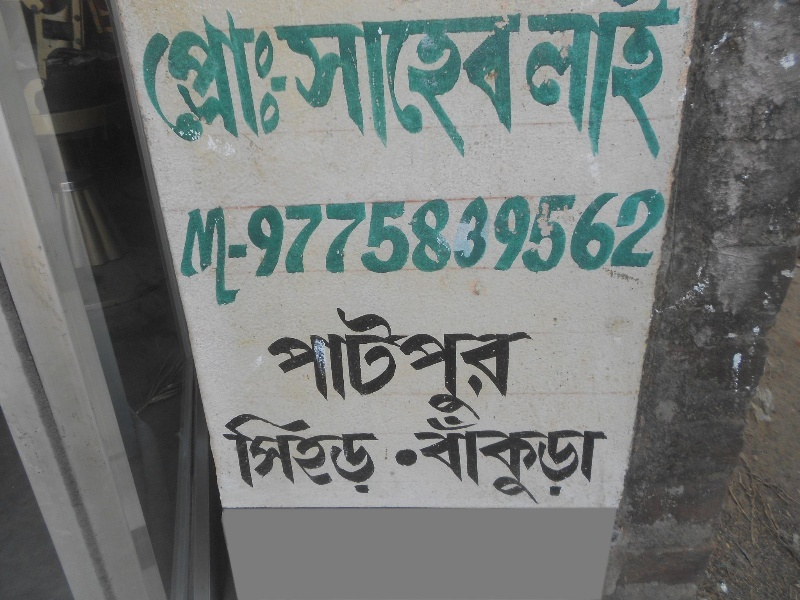text: (145, 1, 160, 161), (161, 1, 176, 161), (177, 1, 192, 161), (193, 1, 208, 161), (209, 1, 224, 161), (225, 1, 240, 161), (241, 1, 256, 161), (257, 1, 272, 161), (273, 1, 288, 161), (289, 1, 304, 161), (305, 1, 320, 161), (321, 1, 336, 161), (337, 1, 352, 161), (353, 1, 368, 161), (369, 1, 384, 161), (385, 1, 400, 161), (401, 1, 416, 161), (417, 1, 432, 161), (433, 1, 448, 161), (449, 1, 464, 161), (465, 1, 480, 161), (481, 1, 496, 161), (497, 1, 512, 161), (513, 1, 528, 161), (529, 1, 544, 161), (545, 1, 560, 161), (561, 1, 576, 161), (577, 1, 592, 161), (593, 1, 608, 161), (609, 1, 624, 161), (625, 1, 640, 161), (641, 1, 656, 161), (657, 1, 672, 161), (177, 186, 192, 310), (193, 186, 208, 310), (209, 186, 224, 310), (225, 186, 240, 310), (241, 186, 256, 310), (257, 186, 272, 310), (273, 186, 288, 310), (289, 186, 304, 310), (305, 186, 320, 310), (321, 186, 336, 310), (337, 186, 352, 310), (353, 186, 368, 310), (369, 186, 384, 310), (385, 186, 400, 310), (401, 186, 416, 310), (417, 186, 432, 310), (433, 186, 448, 310), (449, 186, 464, 310), (465, 186, 480, 310), (481, 186, 496, 310), (497, 186, 512, 310), (513, 186, 528, 310), (529, 186, 544, 310), (545, 186, 560, 310), (561, 186, 576, 310), (577, 186, 592, 310), (593, 186, 608, 310), (609, 186, 624, 310), (625, 186, 640, 310), (641, 186, 656, 310), (657, 186, 671, 310), (273, 307, 288, 420), (289, 307, 304, 420), (305, 307, 320, 420), (321, 307, 336, 420), (337, 307, 352, 420), (353, 307, 368, 420), (369, 307, 384, 420), (385, 307, 400, 420), (401, 307, 416, 420), (417, 307, 432, 420), (433, 307, 448, 420), (449, 307, 464, 420), (465, 307, 480, 420), (481, 307, 496, 420), (497, 307, 512, 420), (513, 307, 528, 420), (673, 1, 683, 161), (593, 414, 609, 508), (417, 414, 432, 508), (433, 414, 448, 508), (449, 414, 464, 508), (465, 414, 480, 508), (481, 414, 496, 508), (497, 414, 512, 508), (513, 414, 528, 508), (529, 414, 544, 508), (545, 414, 560, 508), (561, 414, 576, 508), (577, 414, 592, 508), (225, 412, 240, 495), (241, 412, 256, 495), (257, 412, 272, 495), (273, 412, 288, 495), (289, 412, 304, 495), (305, 412, 320, 495), (321, 412, 336, 495), (337, 412, 352, 495), (353, 412, 368, 495), (369, 412, 380, 495), (169, 186, 176, 310), (140, 1, 144, 161), (529, 307, 534, 420), (268, 307, 272, 420), (220, 412, 224, 495), (401, 447, 416, 467), (413, 414, 416, 508), (395, 447, 400, 467), (417, 447, 418, 467)
